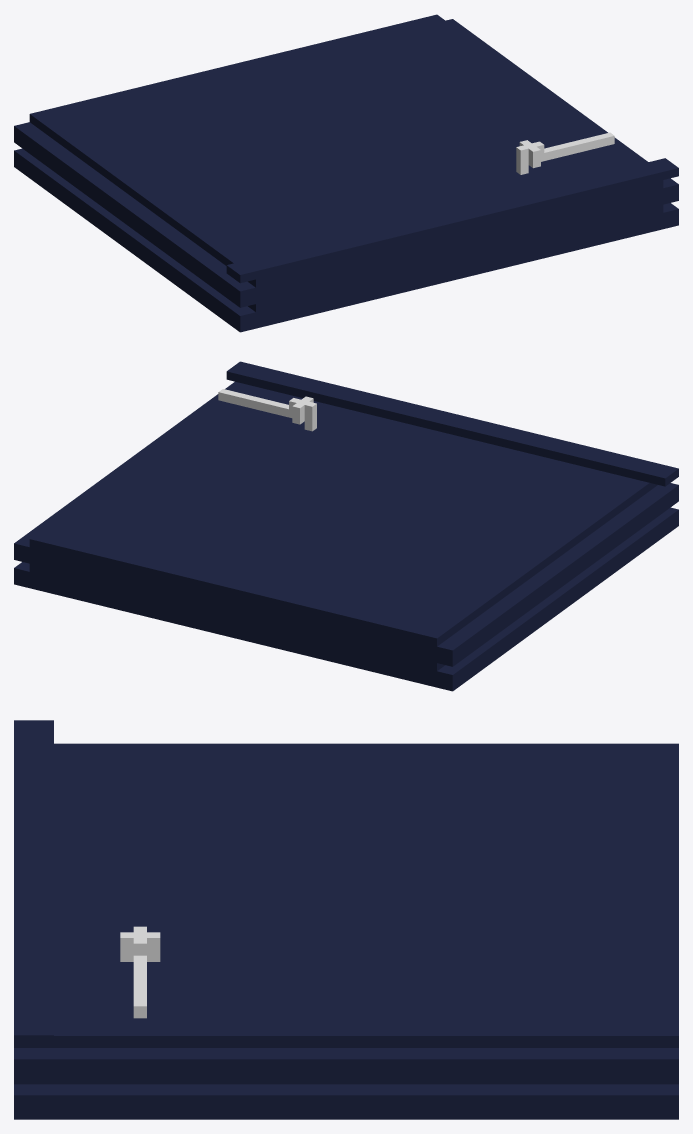
File: hijab.glb
The picture shows the model from 3 angles, top to bottom: view 1: azimuth 30°, elevation 25°; view 2: azimuth 150°, elevation 25°; view 3: azimuth 270°, elevation 25°; orthographic projection. The views are drawn at different scales.
Parts seen in each view (by area): view 1: hijab:compound; view 2: hijab:compound; view 3: hijab:compound.
Part boxes in pixels (x1,y1,x2,y2): hijab:compound: [14, 14, 678, 332]; hijab:compound: [14, 361, 678, 691]; hijab:compound: [14, 720, 678, 1119].
Bounding box in the file's own units: 0.224 × 0.036 × 0.2.
